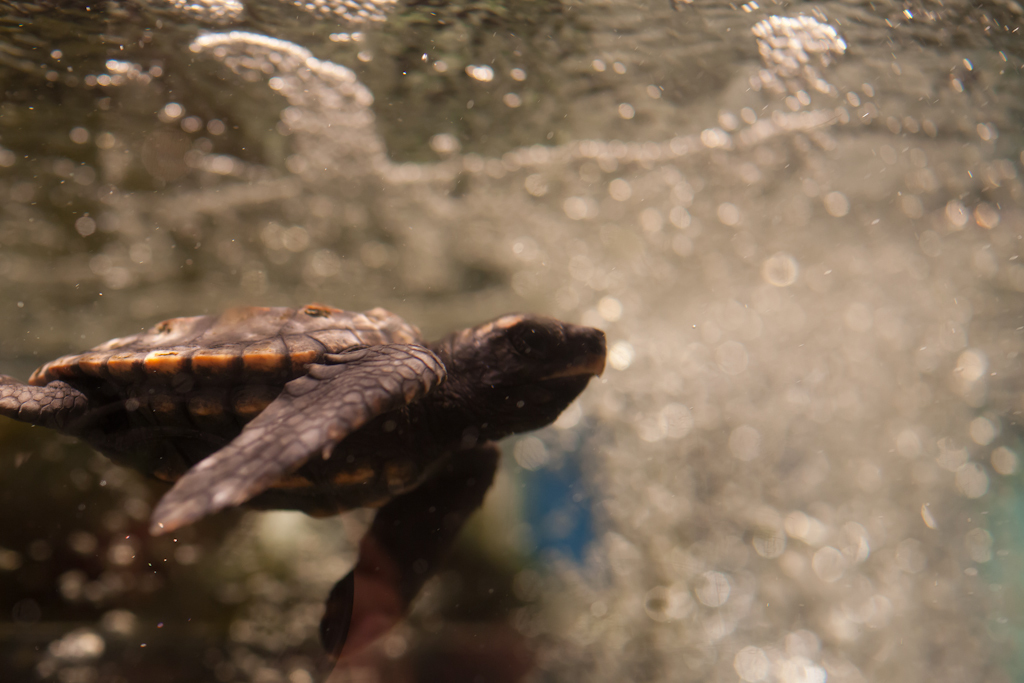Sea turtles: (0, 301, 613, 659)
